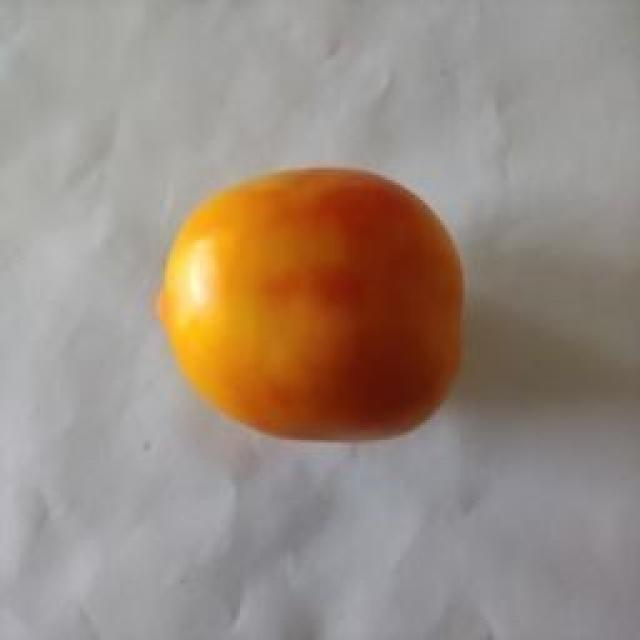unripe: (235, 225, 480, 505)
